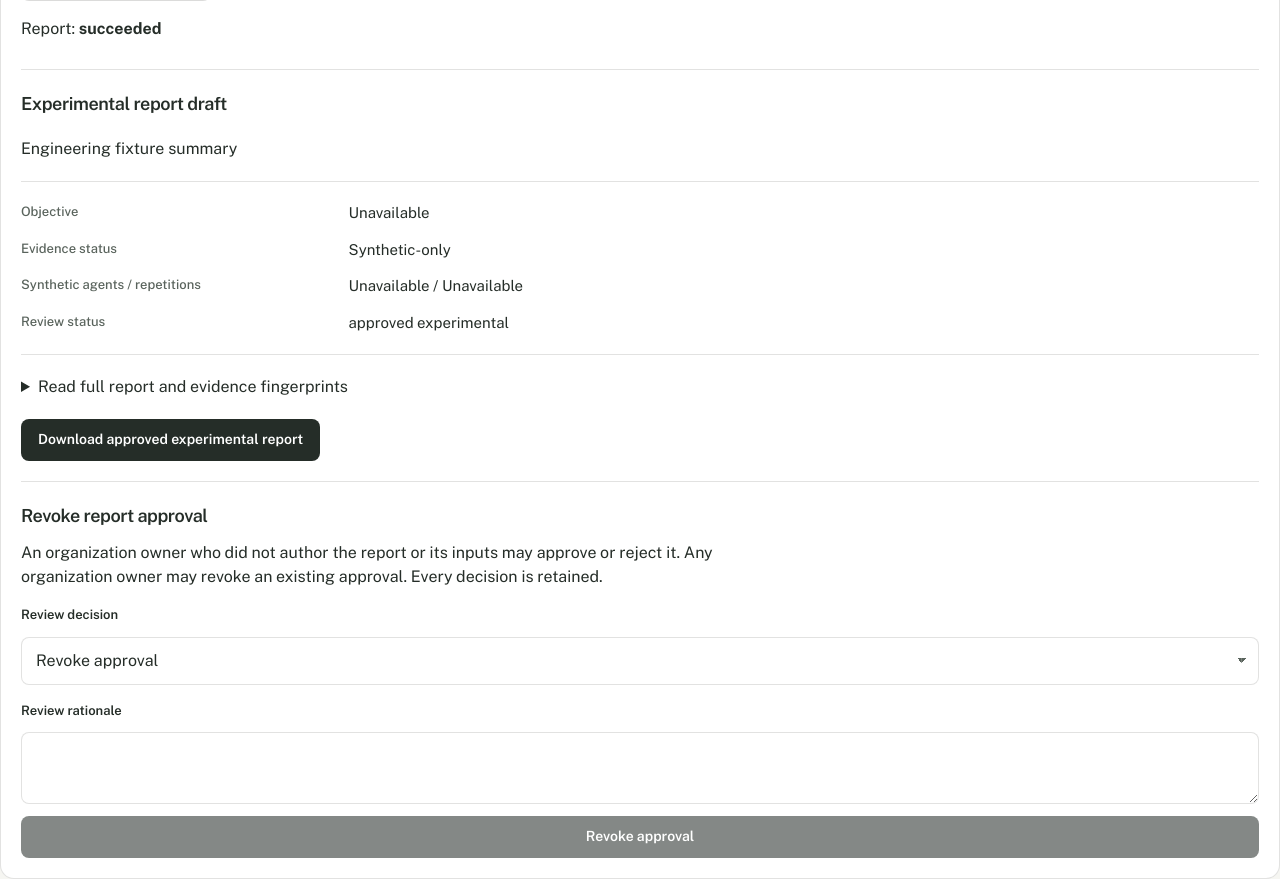
Test case: revokes an approved report without rendering its previous content
The width and height of the screenshot is (1280, 879).
(page scrolled)
Check: the text "Engineering fixture summary" is shown, box top-left (21, 139), bottom-right (237, 158)
Type "Source approval must be withdrawn." into the text box labelled "Review rationale" at (640, 768), box top-left (21, 732), bottom-right (1259, 804)
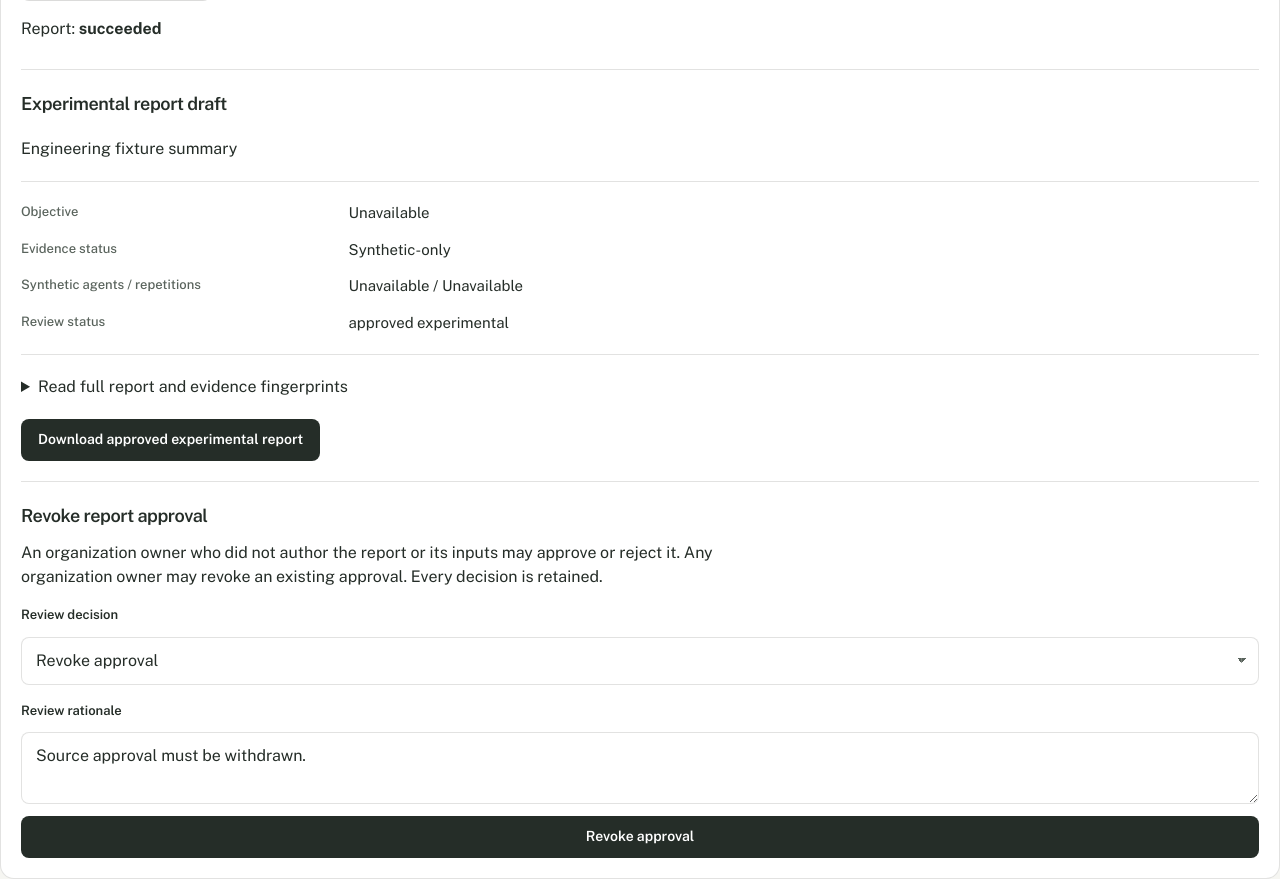
Click the button "Revoke approval" at (640, 837), box top-left (21, 816), bottom-right (1259, 858)
(page scrolled)
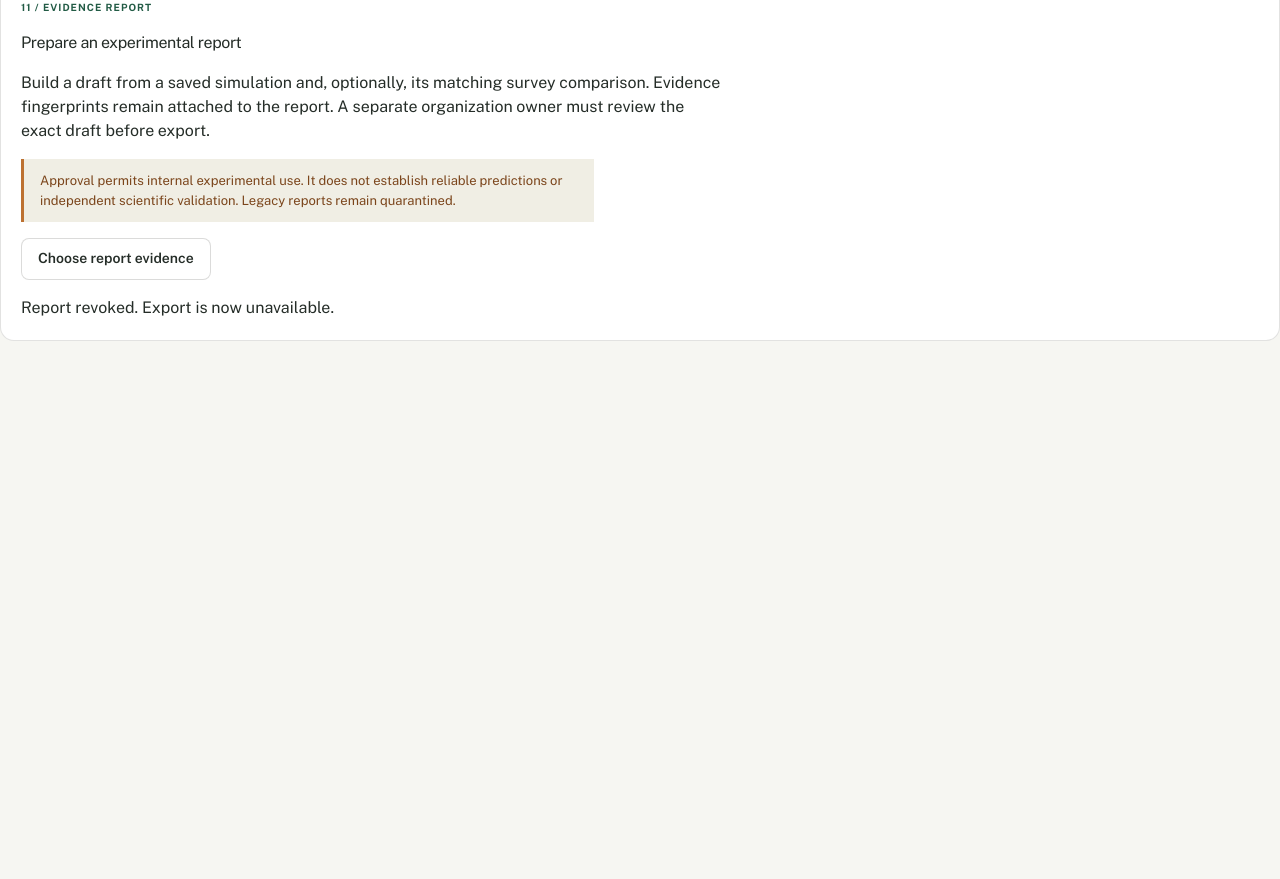
Check: the text "Report revoked. Export is now unavailable." is shown, box top-left (21, 298), bottom-right (334, 317)
Check: the text "Engineering fixture summary" is gone
